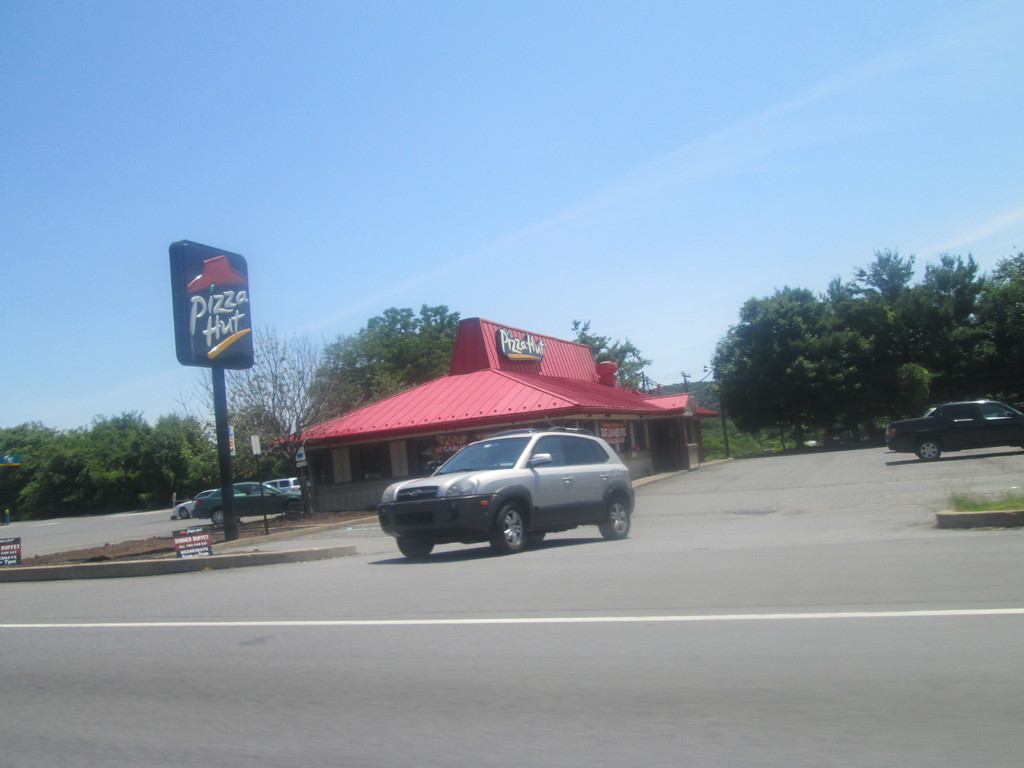Car: (364, 429, 643, 560), (880, 391, 1023, 458), (191, 479, 306, 524), (172, 488, 213, 516), (262, 478, 300, 492)
